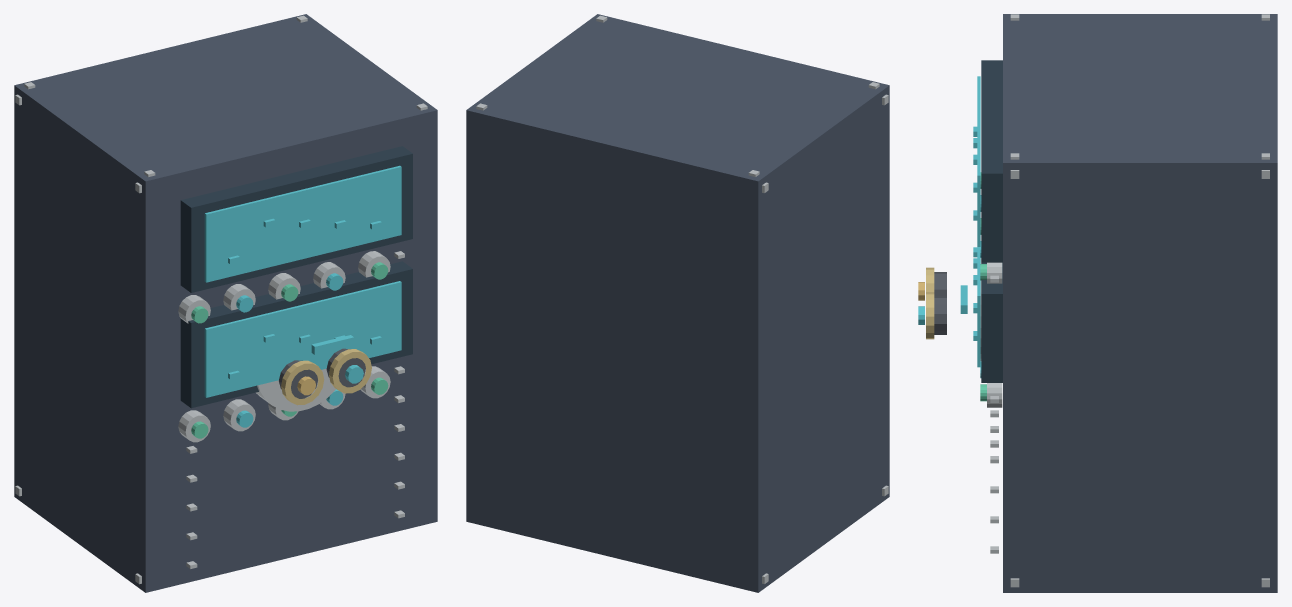
The model's file is 31_L82_RFPreselectorAndAttenuator.glb.
The picture shows the model from 3 angles, left to right: view 1: azimuth 30°, elevation 25°; view 2: azimuth 150°, elevation 25°; view 3: azimuth 270°, elevation 25°; orthographic projection. The views are drawn at different scales.
Parts seen in each view (by area): view 1: RFPreselectorAndAttenuator_Node_0000, RFPreselectorAndAttenuator_Node_0010, RFPreselectorAndAttenuator_Node_0027, RFPreselectorAndAttenuator_Node_0009, RFPreselectorAndAttenuator_Node_0026, RFPreselectorAndAttenuator_Node_0069, RFPreselectorAndAttenuator_Node_0075, RFPreselectorAndAttenuator_Node_0072, RFPreselectorAndAttenuator_Node_0035, RFPreselectorAndAttenuator_Node_0033; view 2: RFPreselectorAndAttenuator_Node_0000; view 3: RFPreselectorAndAttenuator_Node_0000, RFPreselectorAndAttenuator_Node_0009, RFPreselectorAndAttenuator_Node_0026, RFPreselectorAndAttenuator_Node_0010, RFPreselectorAndAttenuator_Node_0074, RFPreselectorAndAttenuator_Node_0027.
Boxes of the visible parts, x1,y1,x2,y2 form: RFPreselectorAndAttenuator_Node_0000: (14, 14, 437, 592); RFPreselectorAndAttenuator_Node_0010: (204, 165, 401, 282); RFPreselectorAndAttenuator_Node_0027: (204, 281, 401, 397); RFPreselectorAndAttenuator_Node_0009: (180, 146, 412, 292); RFPreselectorAndAttenuator_Node_0026: (180, 261, 412, 408); RFPreselectorAndAttenuator_Node_0069: (256, 368, 335, 411); RFPreselectorAndAttenuator_Node_0075: (329, 349, 371, 393); RFPreselectorAndAttenuator_Node_0072: (281, 360, 324, 405); RFPreselectorAndAttenuator_Node_0035: (223, 399, 255, 431); RFPreselectorAndAttenuator_Node_0033: (178, 410, 210, 442); RFPreselectorAndAttenuator_Node_0000: (466, 14, 889, 592); RFPreselectorAndAttenuator_Node_0000: (1003, 14, 1277, 592); RFPreselectorAndAttenuator_Node_0009: (981, 60, 1002, 262); RFPreselectorAndAttenuator_Node_0026: (981, 262, 1002, 382); RFPreselectorAndAttenuator_Node_0010: (977, 76, 980, 246); RFPreselectorAndAttenuator_Node_0074: (934, 296, 946, 334); RFPreselectorAndAttenuator_Node_0027: (977, 247, 980, 367).
Size of the model in its own units: 1.06 by 1.42 by 1.06.
